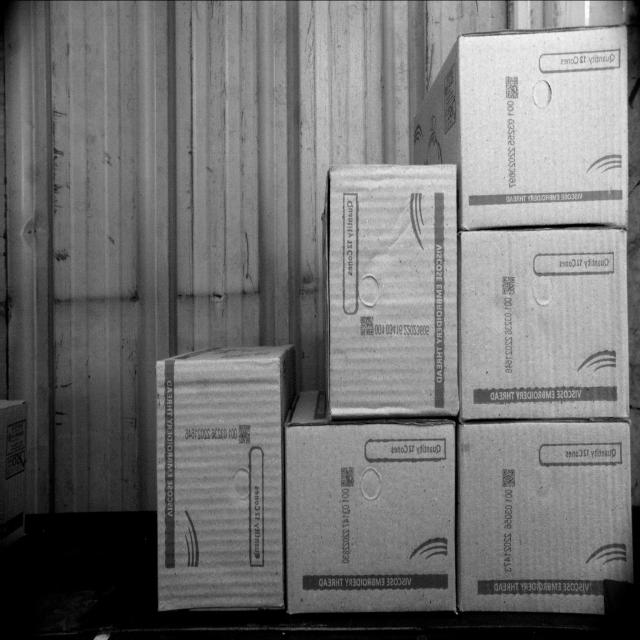cardboxes: (460, 422, 640, 614), (154, 357, 282, 616), (461, 227, 631, 418), (328, 164, 456, 417), (463, 25, 624, 224), (284, 426, 454, 610)
